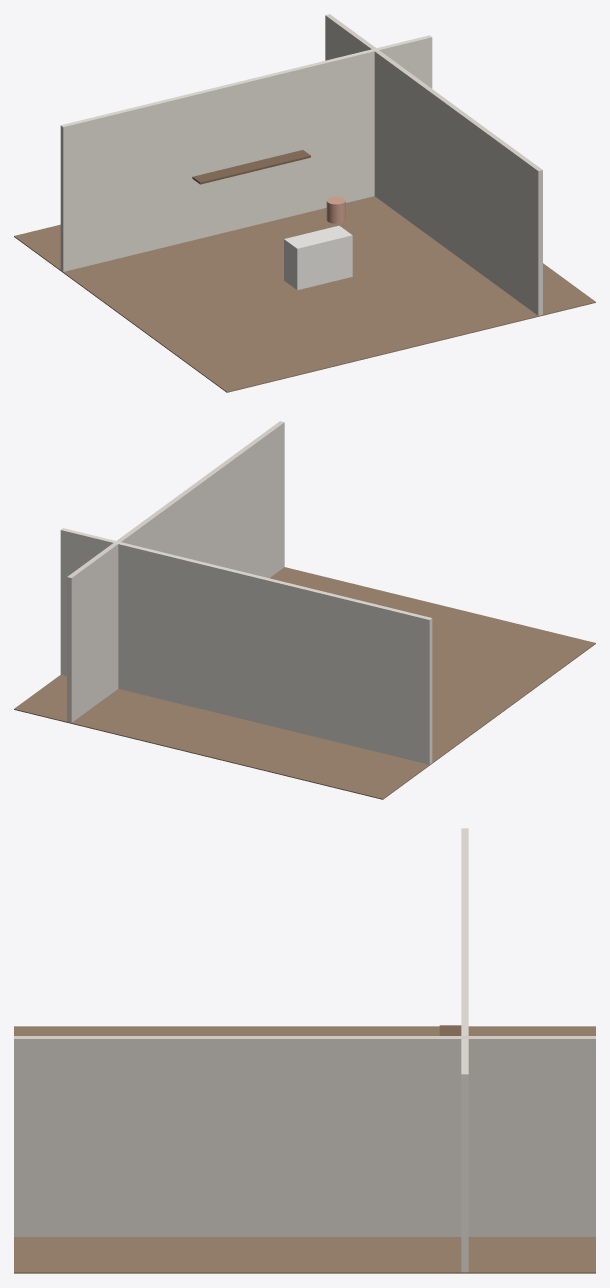
File: room.glb
3 renders of one model, top to bottom at view 1: azimuth 30°, elevation 25°; view 2: azimuth 150°, elevation 25°; view 3: azimuth 270°, elevation 25°, orthographic. The views are drawn at different scales.
Visible parts, largest first — view 1: floor, backwall, sidewall, counter, shelf, Cylinder; view 2: backwall, floor, sidewall; view 3: sidewall, floor, backwall.
Boxes of the visible parts, x1,y1,x2,y2 form: floor: (14, 196, 595, 392); backwall: (60, 35, 432, 271); sidewall: (325, 14, 542, 315); counter: (284, 225, 352, 290); shelf: (192, 150, 310, 184); Cylinder: (326, 196, 345, 223); backwall: (60, 528, 432, 764); floor: (14, 567, 595, 799); sidewall: (67, 421, 284, 722); sidewall: (14, 1036, 595, 1236); floor: (14, 1026, 595, 1273); backwall: (461, 828, 468, 1272).
Size of the model in its own units: 8 by 3.02 by 8.
